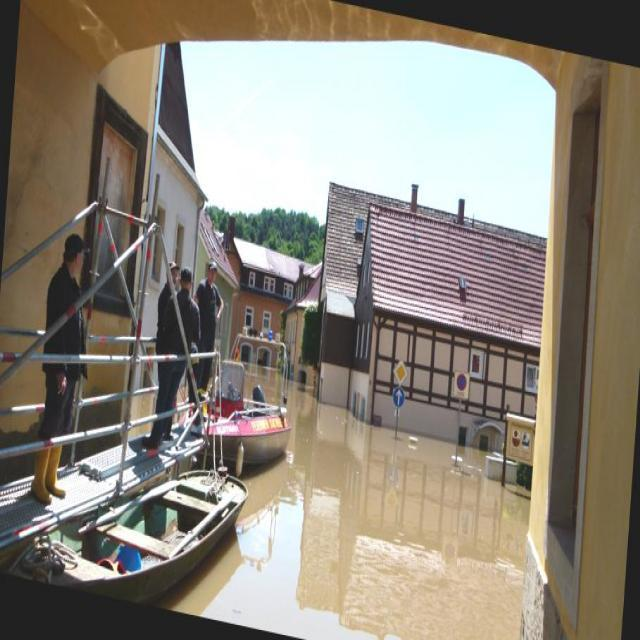flood: (210, 352, 535, 639)
